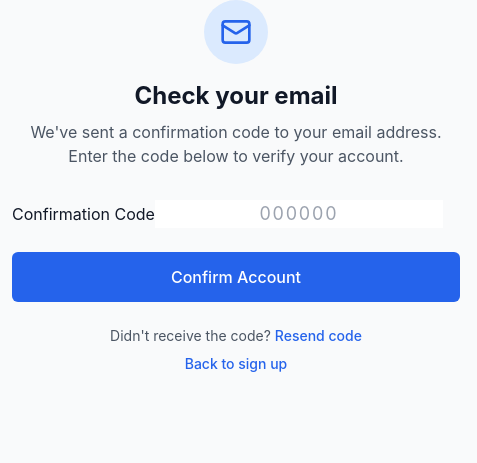
Test case: ConfirmSignUpForm › displays error when resend fails
Click the button "Resend code".
click(318, 336)  # box [275,326,362,346]
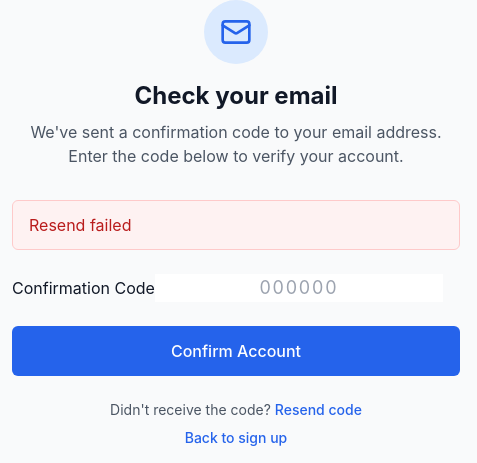
Check: the text "Resend failed" is shown, box [12,200,460,250]
